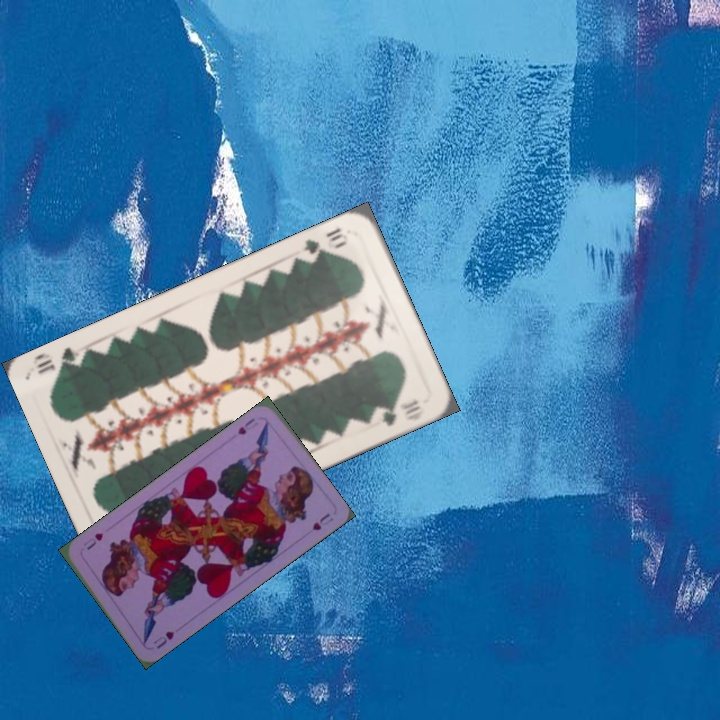G10: (300, 223, 351, 262)
HU: (149, 627, 177, 652), (233, 414, 260, 437)
